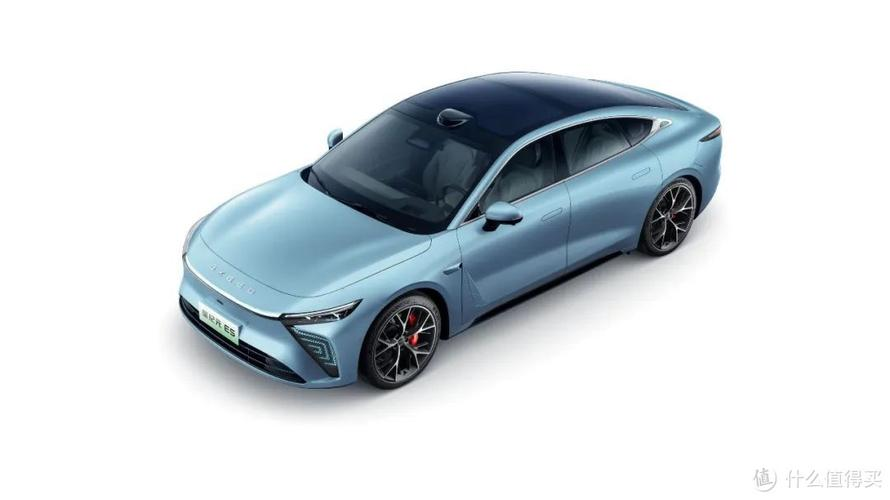汽车: (176, 61, 739, 402)
